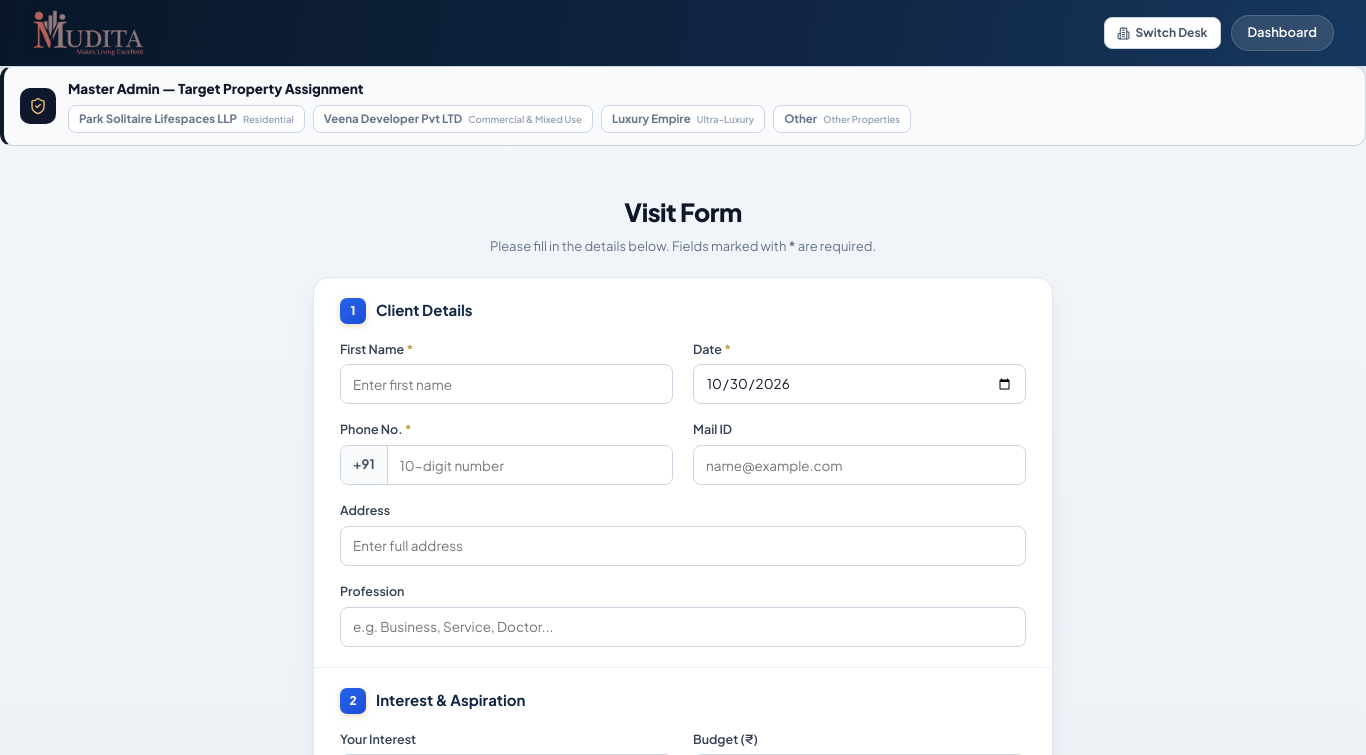
Test: Park Solitaire Client Visit App › Client Visit Form & 10-Digit Phone Validation › restricts phone input to digits only and limits to 10 characters
In the field with placeholder "10-digit number": (530, 465) [388,446,672,484], type "98765abc4321099"
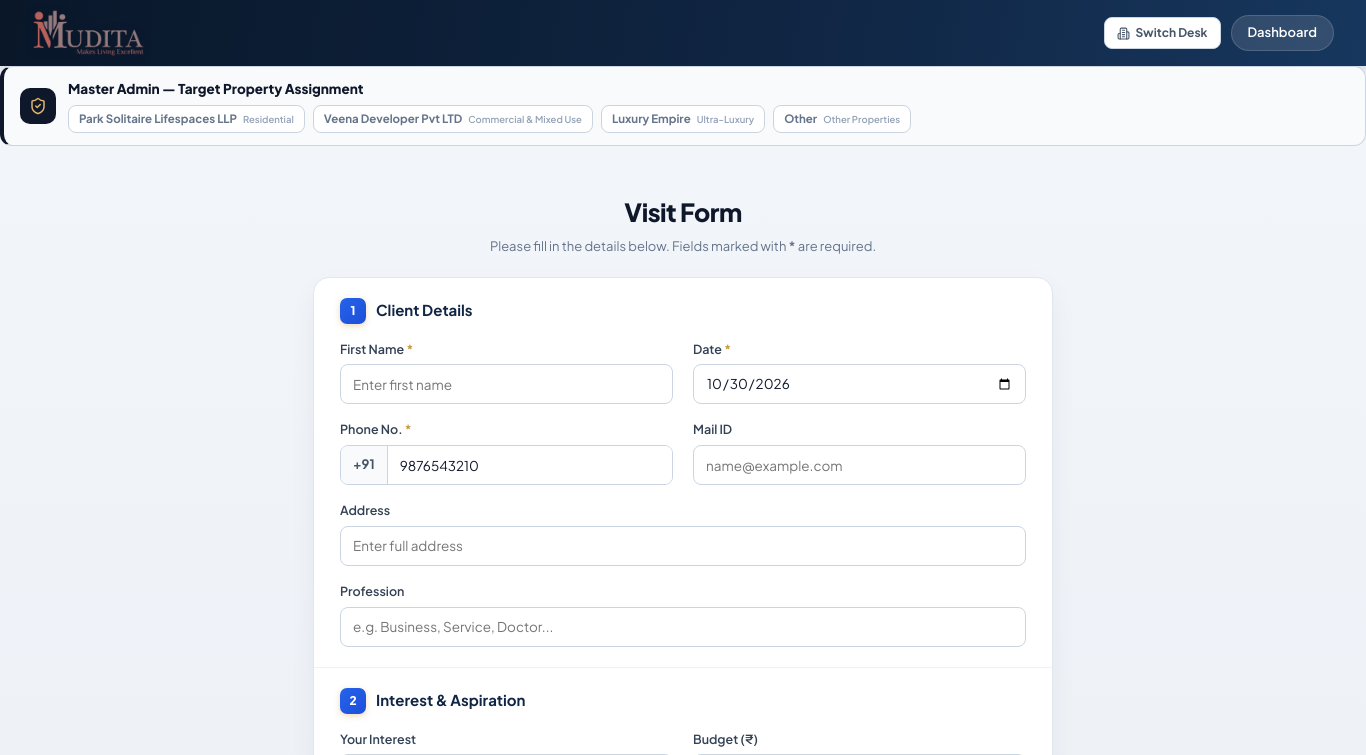
Expected: the field with placeholder "10-digit number" holds "9876543210", [388,446,672,484]
